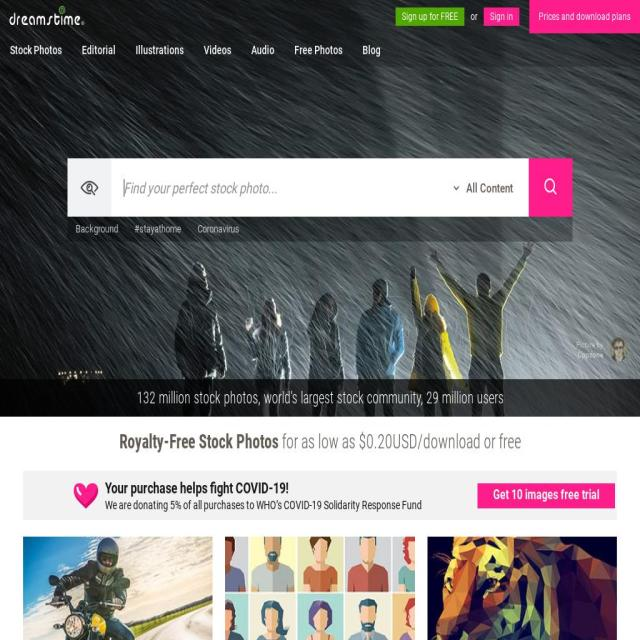button: (23, 536, 213, 640), (225, 536, 415, 640), (427, 536, 617, 640), (444, 158, 530, 217), (529, 0, 639, 33), (478, 484, 616, 508), (0, 33, 72, 67), (125, 33, 193, 67), (284, 33, 352, 67), (72, 33, 126, 67), (126, 216, 190, 242), (194, 33, 241, 67), (188, 216, 248, 242), (67, 216, 126, 242), (242, 33, 284, 67), (352, 33, 390, 67), (396, 7, 464, 26), (576, 338, 628, 362), (484, 7, 519, 26)
field: (111, 158, 445, 217)
heading: (9, 388, 630, 408), (278, 430, 521, 453), (119, 430, 279, 453)
image: (23, 536, 213, 640), (225, 536, 415, 640), (427, 536, 617, 640), (67, 158, 111, 217), (532, 159, 570, 216), (10, 6, 84, 25), (610, 338, 628, 362)
link: (466, 181, 514, 196), (576, 350, 603, 360)
text: (104, 479, 466, 497), (104, 498, 466, 512), (538, 0, 630, 33), (466, 7, 482, 26), (576, 340, 603, 349)
